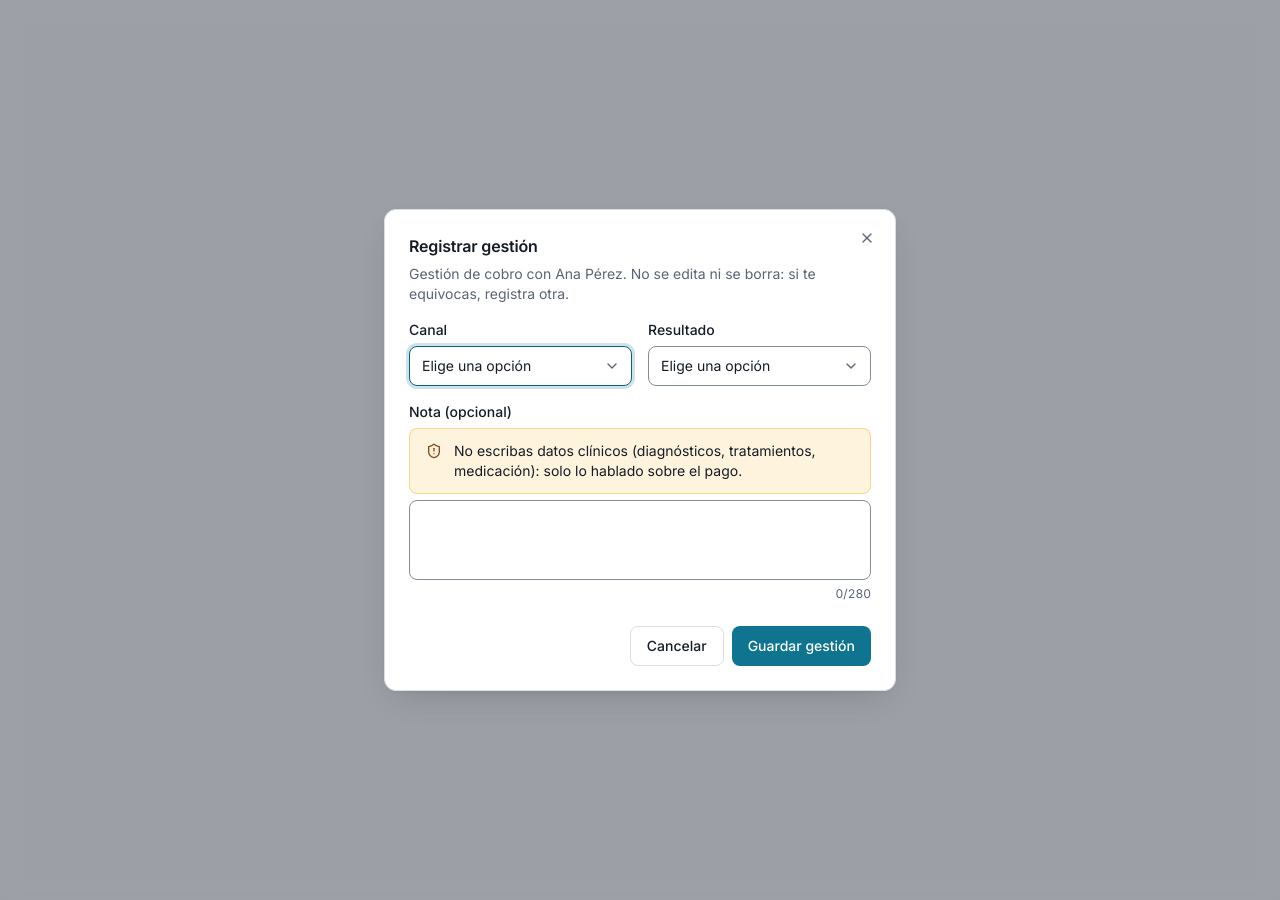
it: CollectionNoteDialog (DX-150) › un error de la API queda en el modal, en español
This screenshot has width=1280, height=900.
Select "Llamada" in the dropdown labelled "Canal" at (520, 366), box [409,346,632,386]
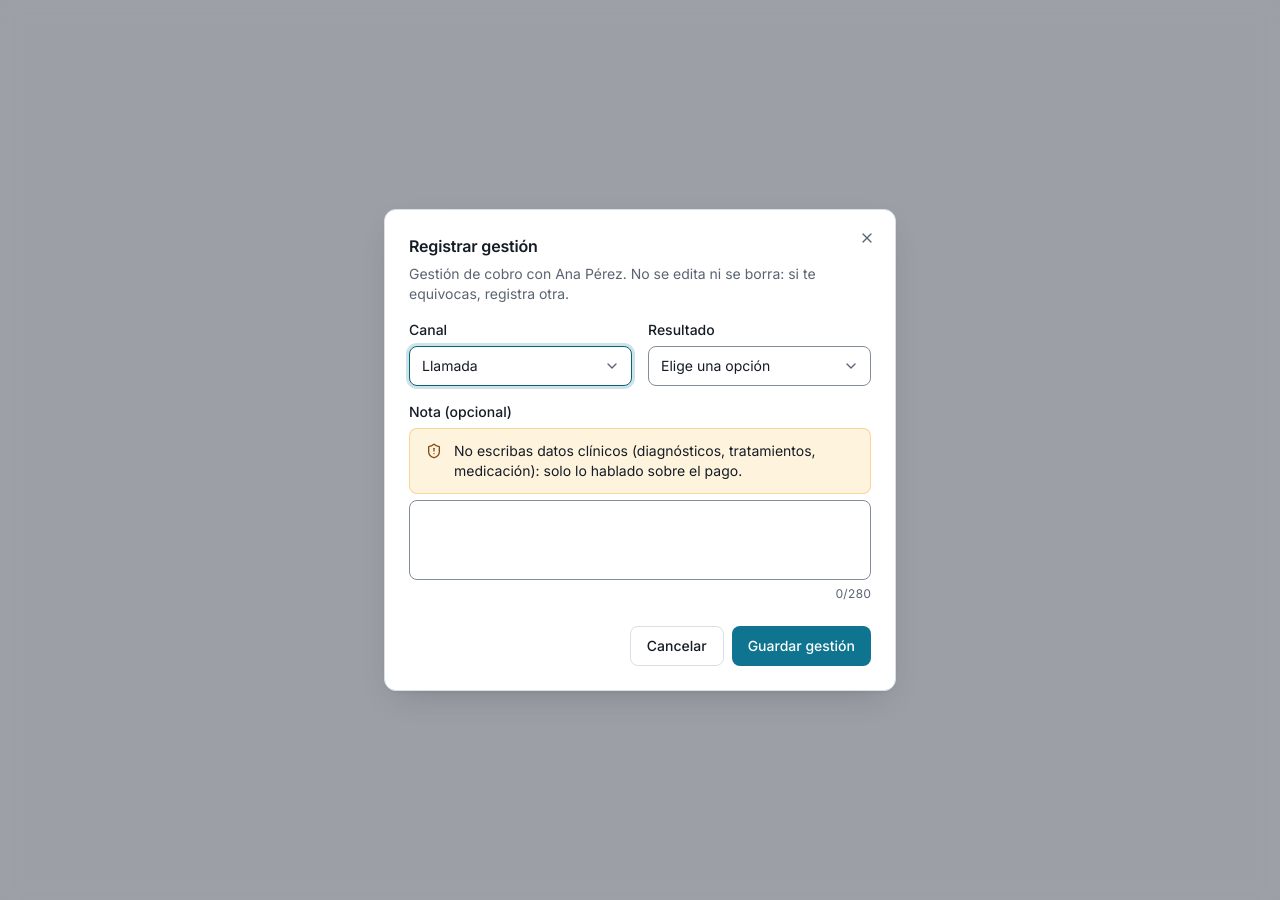
Select "Disputa el saldo" in the dropdown labelled "Resultado" at (760, 366), box [648,346,871,386]
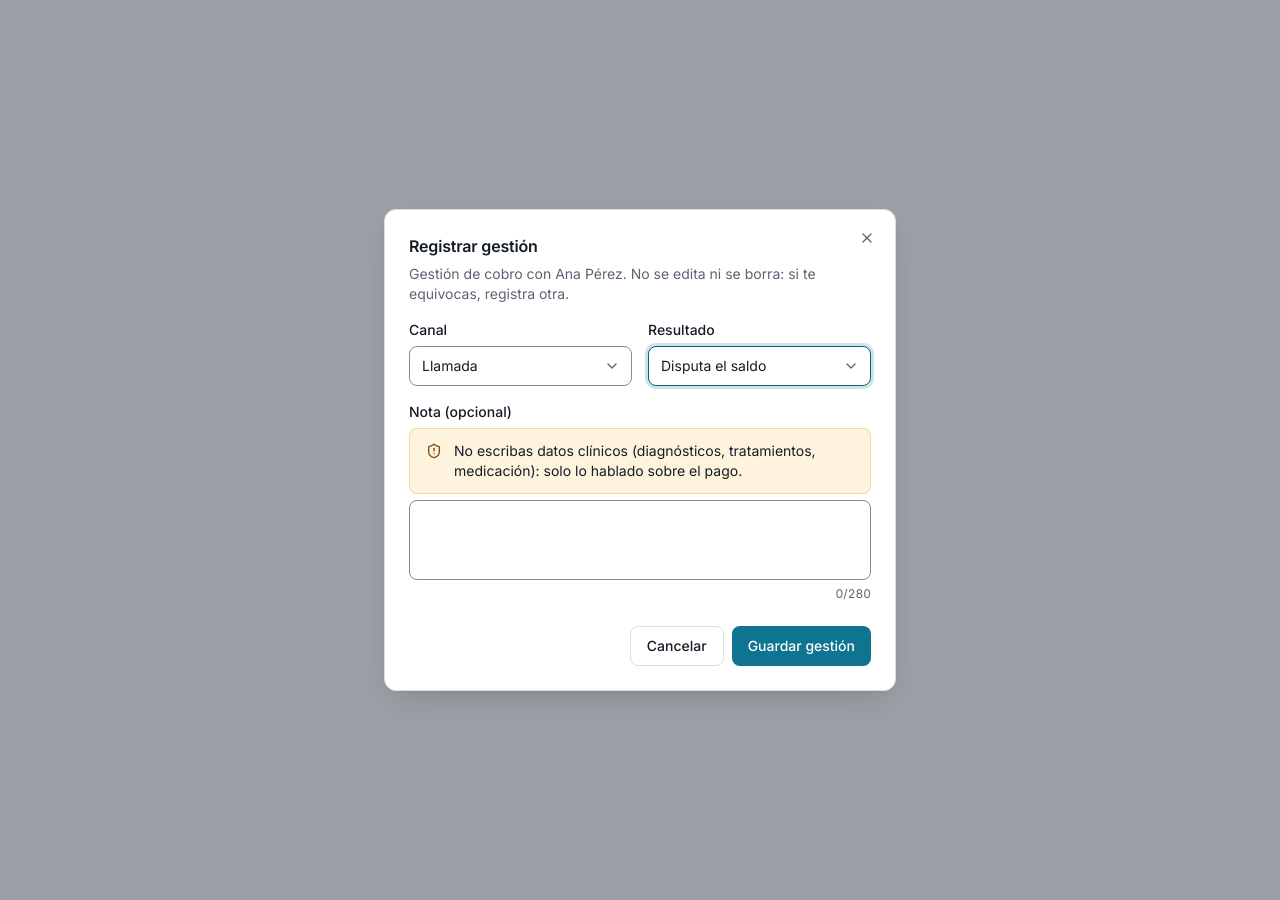
Click the button "Guardar gestión" at (801, 646), box [732,626,871,666]
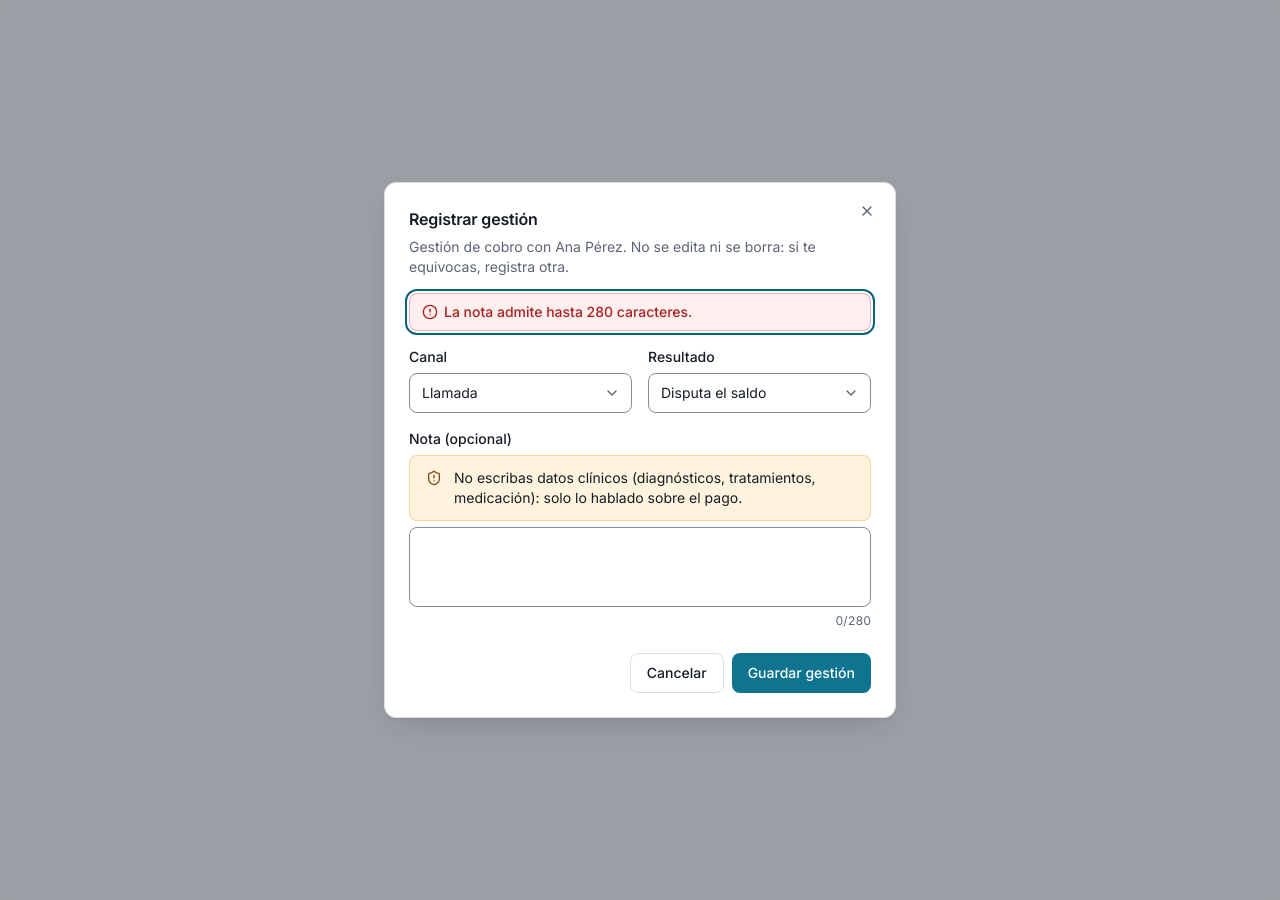
expect the message reads "La nota admite hasta 280 caracteres.": met, box [444,303,692,320]
